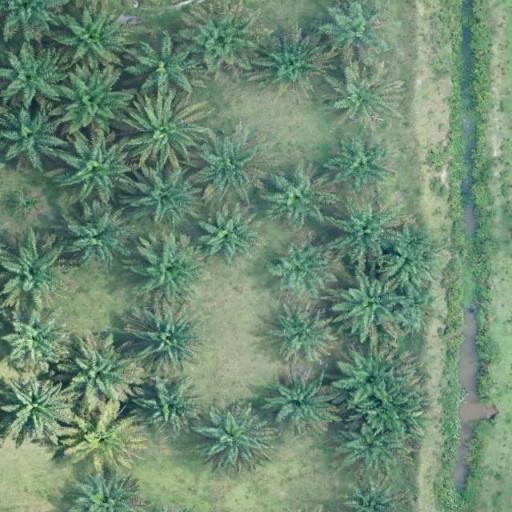Ganoderma: (75, 417, 127, 464)
